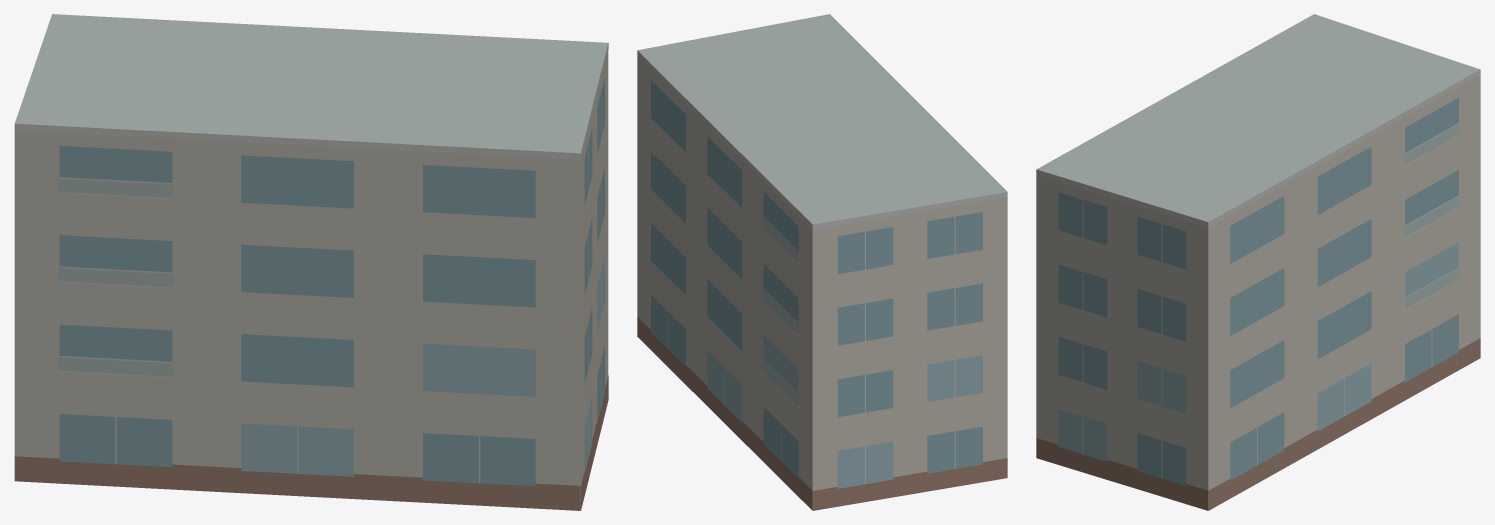
Rendered from survey-upis-32630271.glb.
The picture shows the model from 3 angles, left to right: view 1: azimuth 30°, elevation 25°; view 2: azimuth 150°, elevation 25°; view 3: azimuth 270°, elevation 25°; orthographic projection. The views are drawn at different scales.
Visible parts, largest first — view 1: survey-upis-32630271.tmp; view 2: survey-upis-32630271.tmp; view 3: survey-upis-32630271.tmp.
Part boxes in pixels (x1,y1,x2,y2): survey-upis-32630271.tmp: [14, 14, 608, 510]; survey-upis-32630271.tmp: [637, 14, 1007, 510]; survey-upis-32630271.tmp: [1036, 14, 1480, 510].
Bounding box in the file's own units: 20.26 × 13.1 × 18.27.
